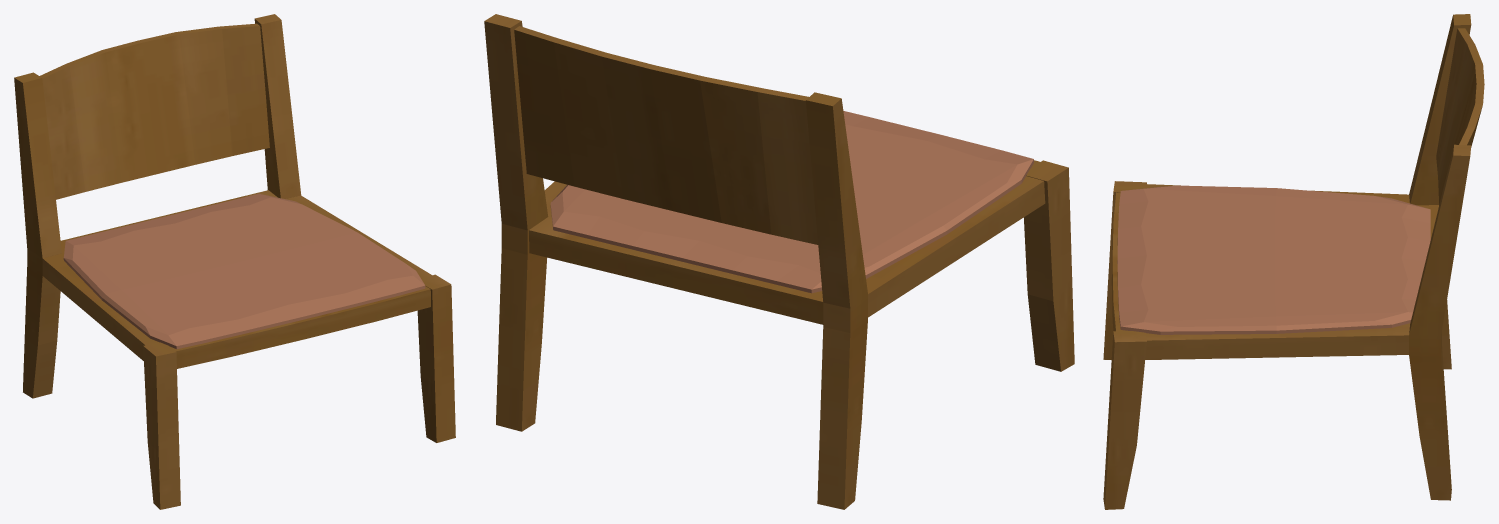
The model's file is sh-scopia-chair4.glb.
The picture shows the model from 3 angles, left to right: view 1: azimuth 30°, elevation 25°; view 2: azimuth 150°, elevation 25°; view 3: azimuth 270°, elevation 25°; orthographic projection. The views are drawn at different scales.
Parts seen in each view (by area): view 1: fusta_taula_tipic.001_fusta_taula_tipic_fusta_taula_tipic.00, coixi_cadira_coixi_cadira_coixi_cadira.001; view 2: fusta_taula_tipic.001_fusta_taula_tipic_fusta_taula_tipic.00, coixi_cadira_coixi_cadira_coixi_cadira.001; view 3: coixi_cadira_coixi_cadira_coixi_cadira.001, fusta_taula_tipic.001_fusta_taula_tipic_fusta_taula_tipic.00.
Boxes of the visible parts, x1,y1,x2,y2 form: fusta_taula_tipic.001_fusta_taula_tipic_fusta_taula_tipic.00: (14, 14, 455, 509); coixi_cadira_coixi_cadira_coixi_cadira.001: (63, 193, 425, 349); fusta_taula_tipic.001_fusta_taula_tipic_fusta_taula_tipic.00: (484, 14, 1074, 509); coixi_cadira_coixi_cadira_coixi_cadira.001: (550, 111, 1033, 293); coixi_cadira_coixi_cadira_coixi_cadira.001: (1117, 185, 1430, 334); fusta_taula_tipic.001_fusta_taula_tipic_fusta_taula_tipic.00: (1103, 14, 1484, 509).
Size of the model in its own units: 1 by 1 by 1.
Materials: 2 (1 with a texture image).
